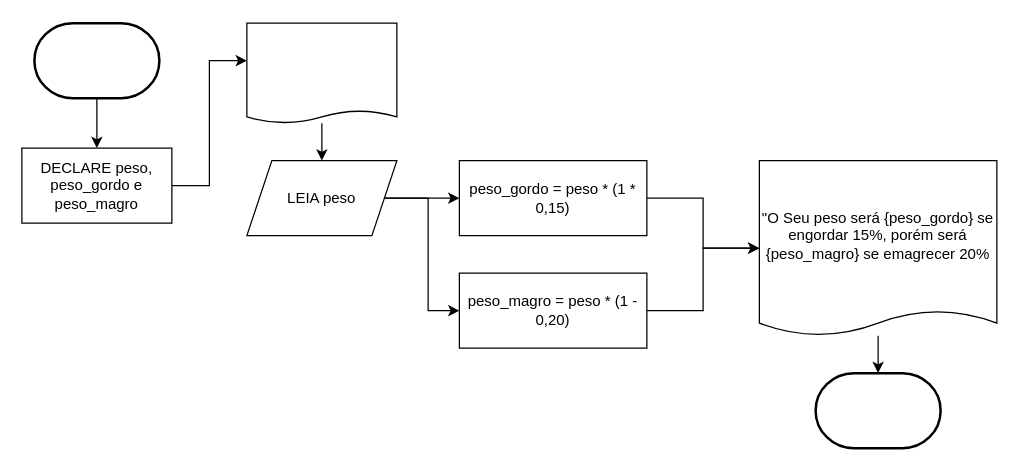
The diagram is 1019 pixels wide and 470 high, and some of its shapes have lost their labels. The box of each missing label's shape, as (x1, y1, x2, y2) in pixels:
"Informe o peso": (246, 22, 397, 123)
FIM: (814, 371, 941, 449)
INICIO: (32, 21, 160, 99)
